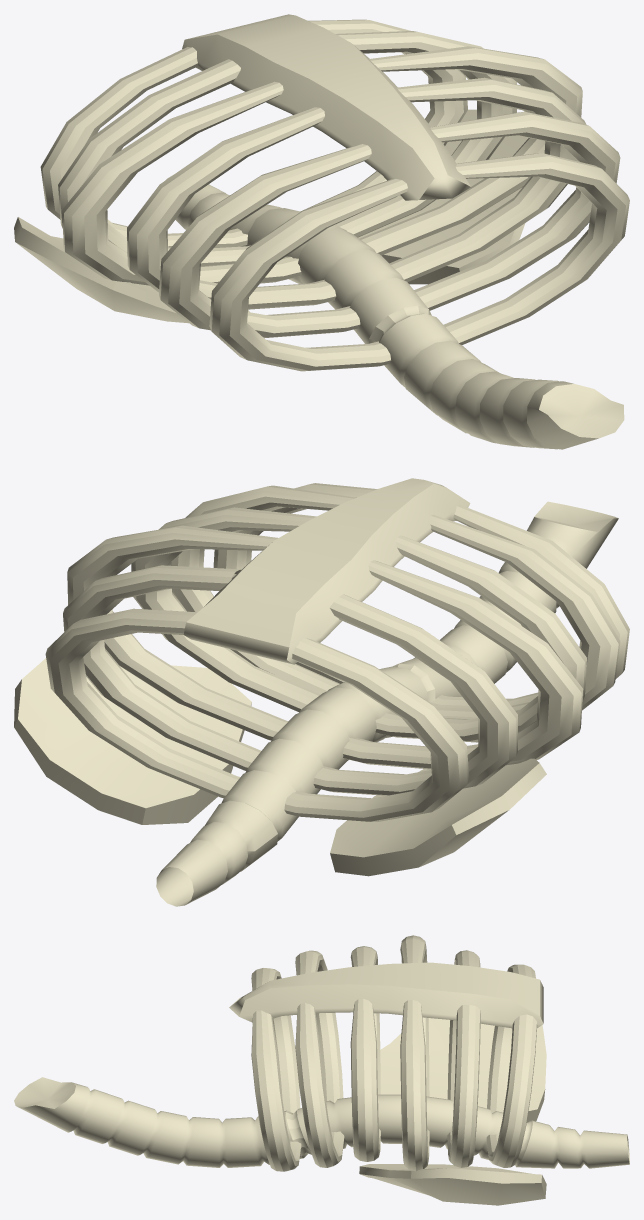
Rendered from Costillas.fbx.
The picture shows the model from 3 angles, top to bottom: view 1: azimuth 30°, elevation 25°; view 2: azimuth 150°, elevation 25°; view 3: azimuth 270°, elevation 25°; orthographic projection. The views are drawn at different scales.
Visible parts, largest first — view 1: Costillas; view 2: Costillas; view 3: Costillas.
Boxes of the visible parts, box(x1,y1,x2,y2) form: Costillas: box(14, 14, 629, 449); Costillas: box(14, 478, 629, 906); Costillas: box(14, 935, 629, 1205).
Size of the model in its own units: 41.57 by 20.36 by 59.46.
